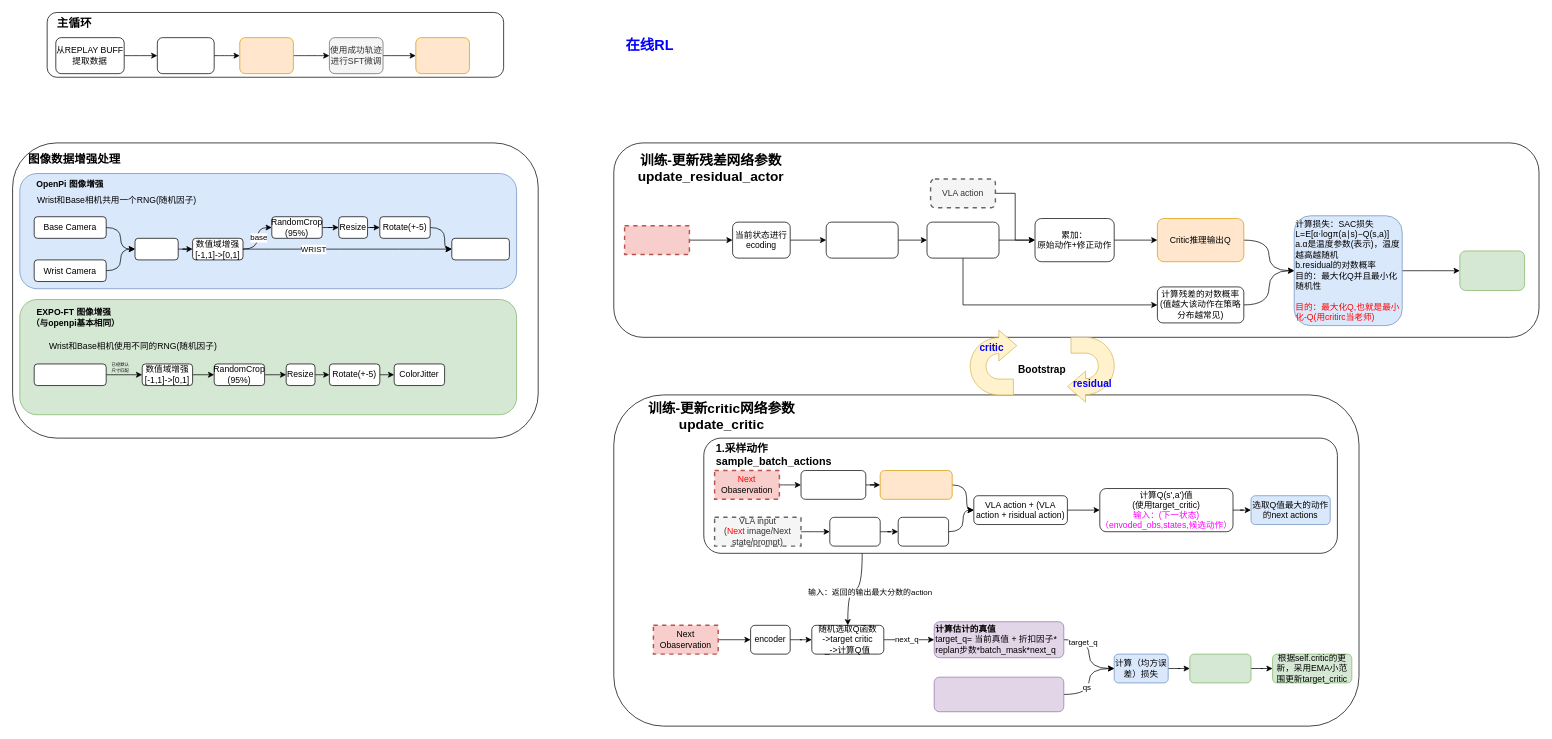
Some shapes in this 1552 by 739 pixel diagram are drawn without their labels. The shapes that lost their labels are listed below. From the top down, each one's centre as x and y in pixels, then its label:
(x=185, y=55): 进行图像增强
(x=266, y=55): 更新CRITIC网络
(x=442, y=55): 更新RISIDUAL网路
(x=156, y=249): Resize 224*224
(x=480, y=249): ColorJitter 颜色外观扰动
(x=657, y=240): Obaservation
(x=861, y=239): 执行risidual actor网络前向推理得到參差分布
(x=962, y=239): 进行随机采样 （采样出的就是残差action）
(x=1492, y=270): 反向传播，更新residual的模型的参数
(x=69, y=374): Base&Wrist Camera
(x=833, y=484): encoder (critic和risidual共用encoder)
(x=915, y=484): risidual前向推理，并进行采样，选取N个残差动作
(x=854, y=531): VLA(PI0.5)
(x=923, y=531): 选取前N个action
(x=1220, y=668): 计算梯度&更新self.critic网络
(x=998, y=694): 计算当前状态的Q值 self.critic
